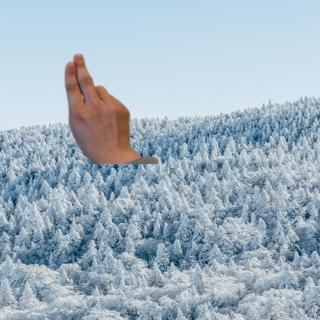DHAVE: (57, 49, 133, 156)
